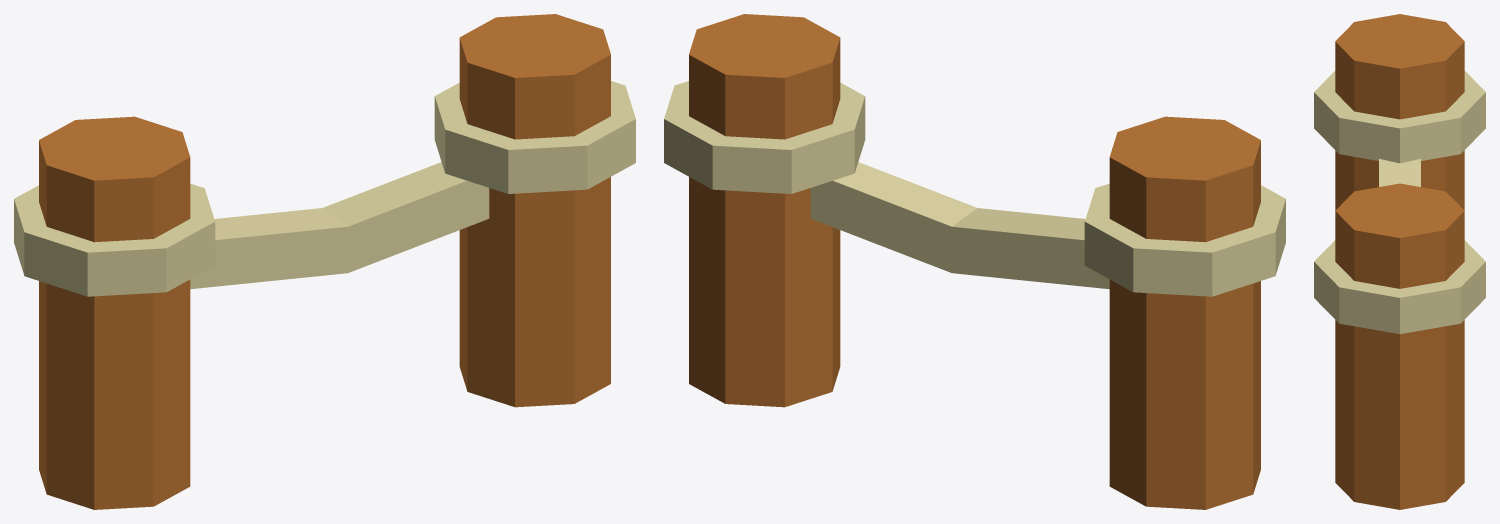
The model's file is fence_small.fbx.
3 renders of one model, left to right at view 1: azimuth 30°, elevation 25°; view 2: azimuth 150°, elevation 25°; view 3: azimuth 270°, elevation 25°, orthographic. The views are drawn at different scales.
Visible parts, largest first — view 1: fence_small; view 2: fence_small; view 3: fence_small.
Boxes of the visible parts, bbox=[...] form: fence_small: bbox=[14, 14, 635, 509]; fence_small: bbox=[664, 14, 1285, 509]; fence_small: bbox=[1314, 14, 1485, 509].
Bounding box in the file's own units: 101 × 52.66 × 30.17.
